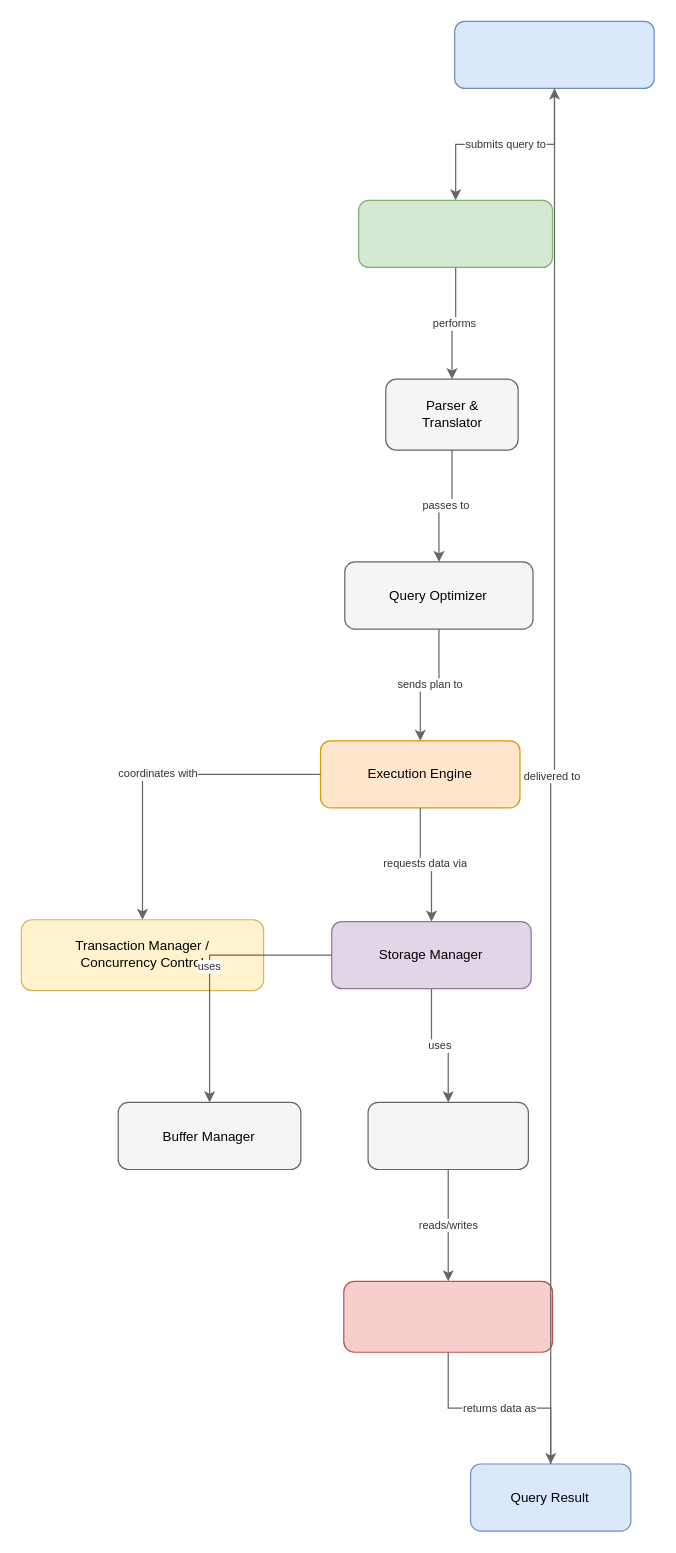
Some shapes in this 676 by 1553 pixel diagram are drawn without their labels. Each missing label, with the centre of its shape:
File Manager: point 447,1135
Physical Database (Disk Storage): point 448,1316
Query Processor: point 455,233
User / Application: point 553,54
